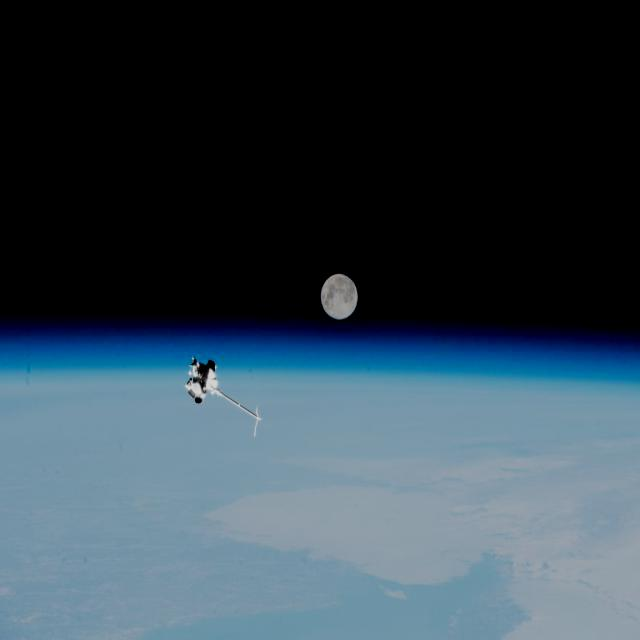satellite: (160, 349, 271, 440)
